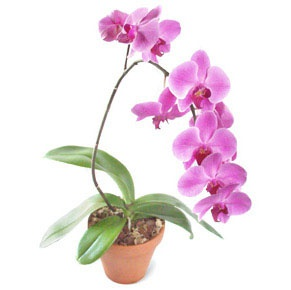flowerpot: (88, 207, 165, 284)
